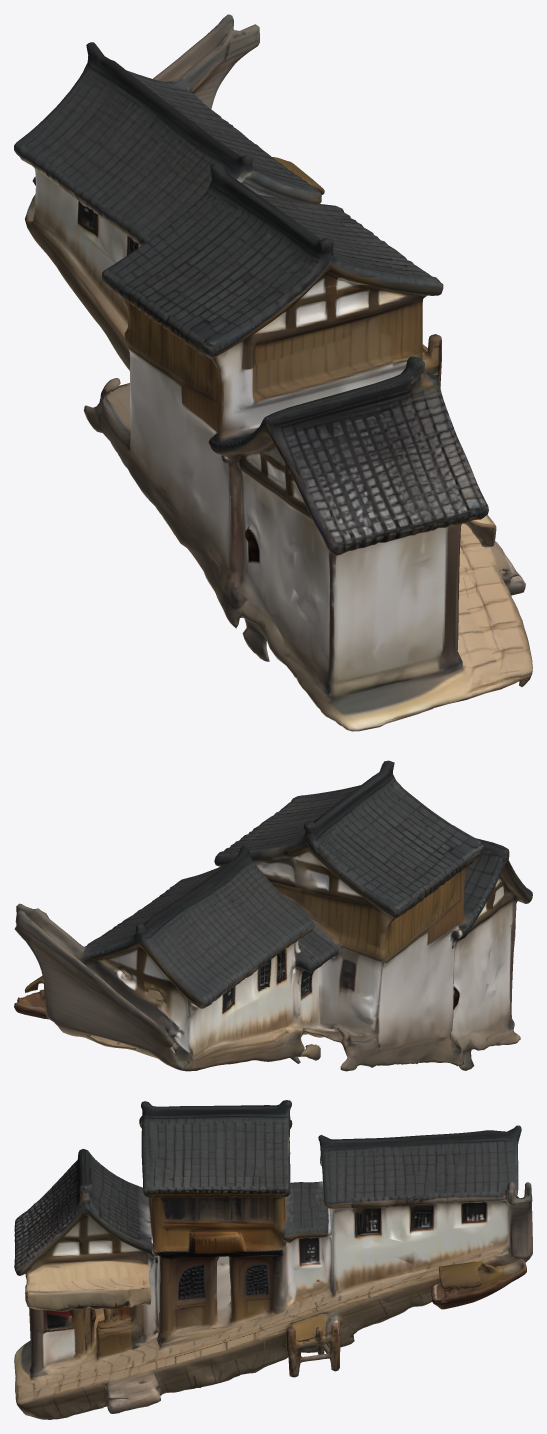
The picture shows the model from 3 angles, top to bottom: view 1: azimuth 30°, elevation 25°; view 2: azimuth 150°, elevation 25°; view 3: azimuth 270°, elevation 25°; orthographic projection. The views are drawn at different scales.
Parts seen in each view (by area): view 1: material.001; view 2: material.001; view 3: material.001.
Boxes of the visible parts, <box> form: material.001: <box>14,14,532,731</box>; material.001: <box>14,760,532,1071</box>; material.001: <box>14,1100,532,1419</box>.
Size of the model in its own units: 0.5123 by 0.5857 by 0.9917.
1 material, 1 textured.
